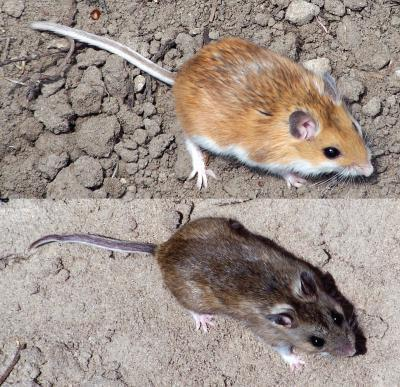rat: (32, 21, 374, 188), (30, 215, 356, 373)
